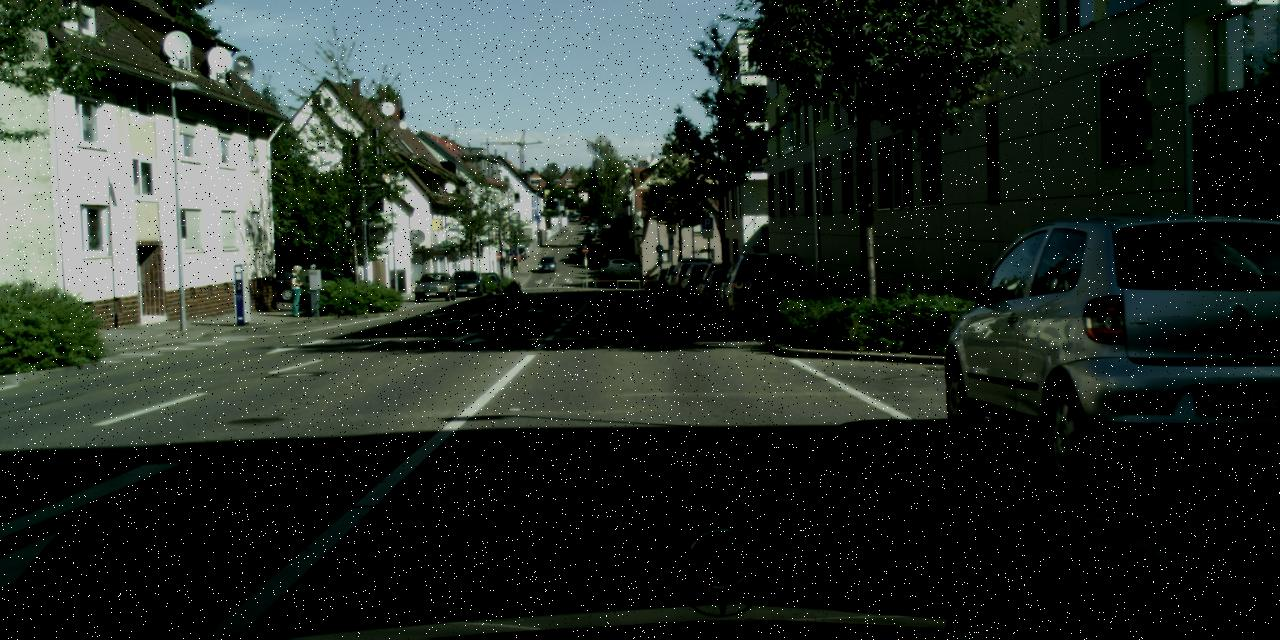ped: (284, 265, 306, 317)
